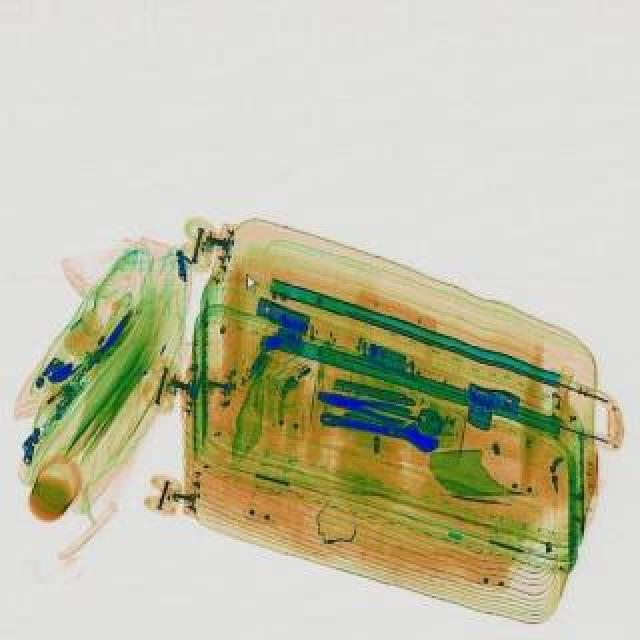scissors: (316, 400, 442, 452)
wrench: (314, 382, 410, 424)
